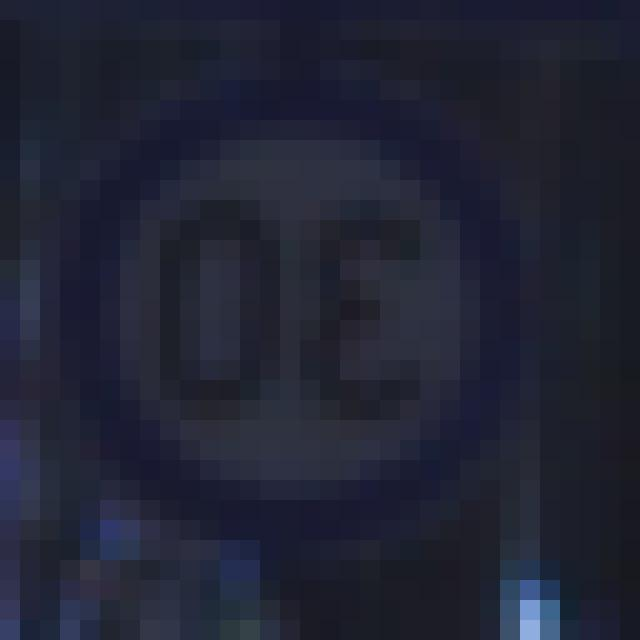SPEED LIMIT 30: (63, 81, 543, 512)
